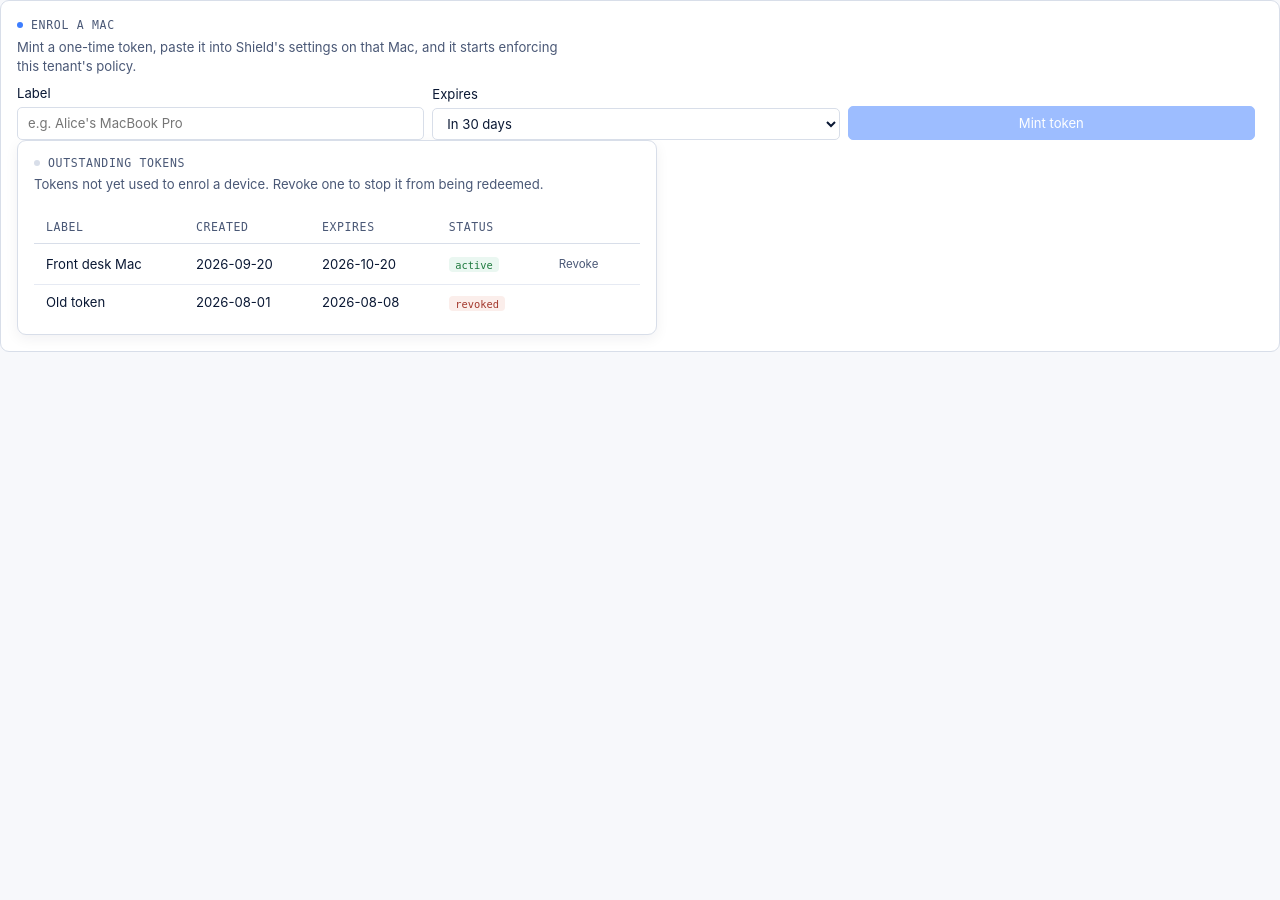
Scenario: EnrolPanel › lists outstanding tokens and can revoke one
Check: the text "Front desk Mac" is shown, box [34,244,184,285]
Click the button "Revoke".
click(579, 264)  # box [550,252,607,276]
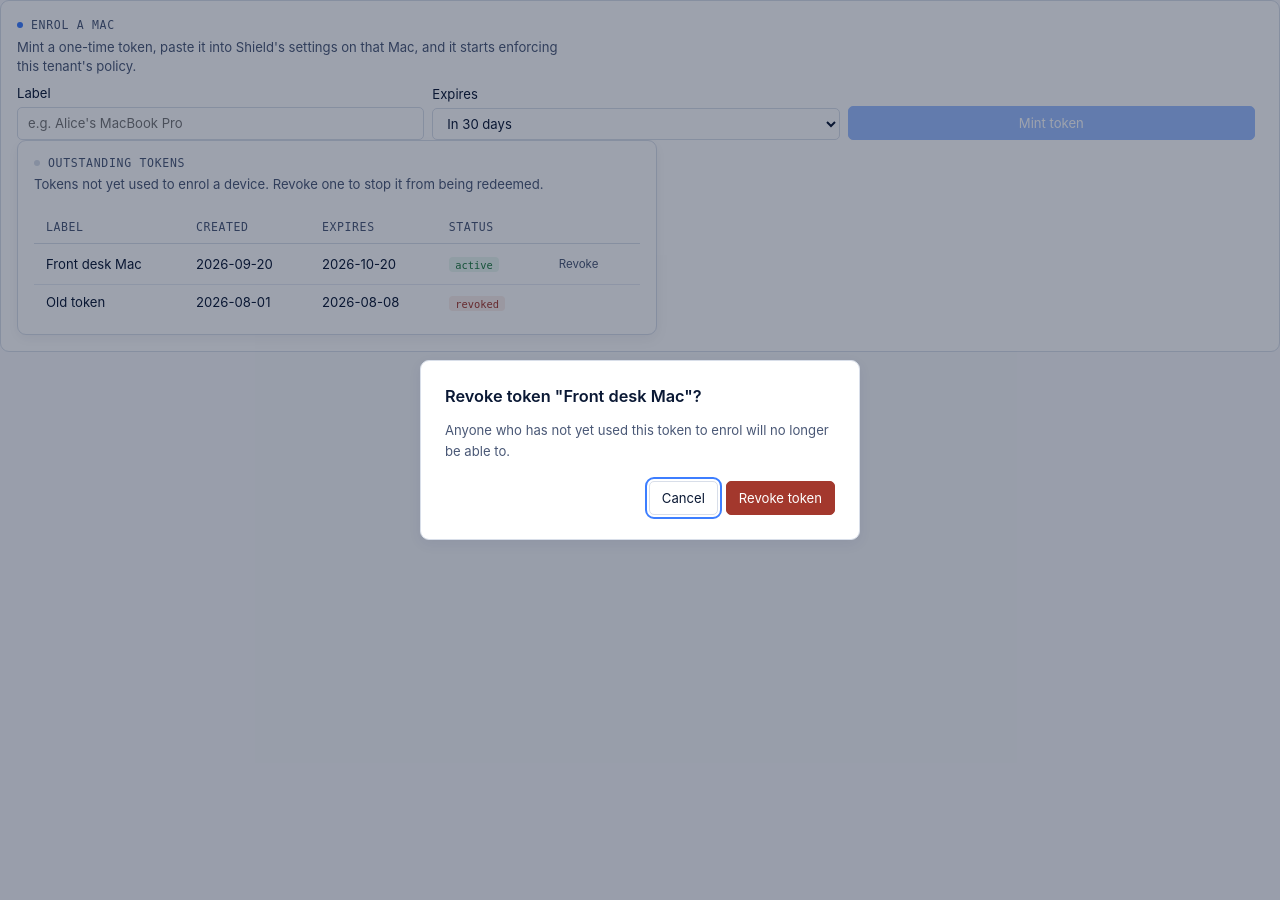
Click the button "Revoke token".
click(780, 498)  # box [726,481,835,515]
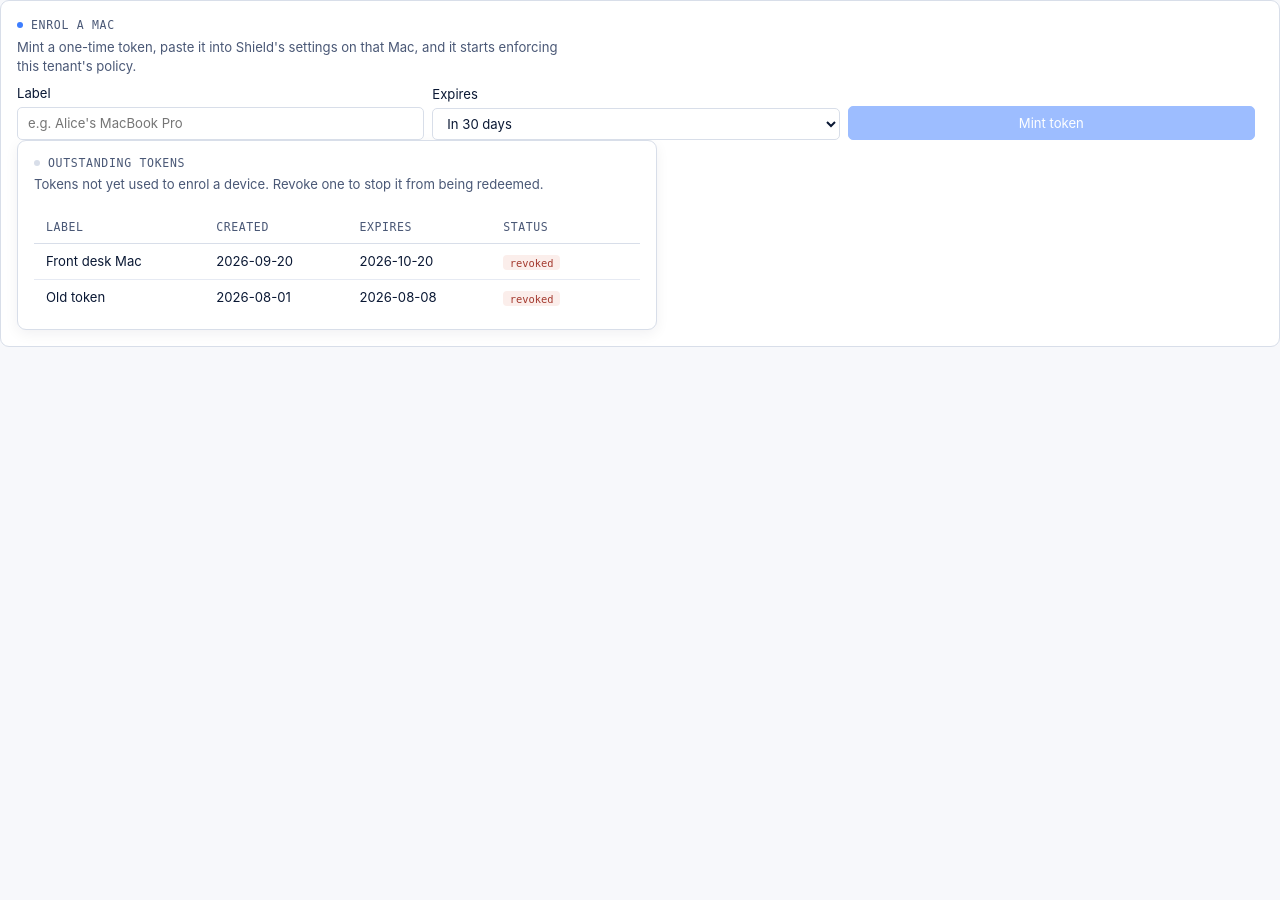
Check: the text "revoked" in the row of "Front desk Mac" is shown, box [510,256,554,268]
